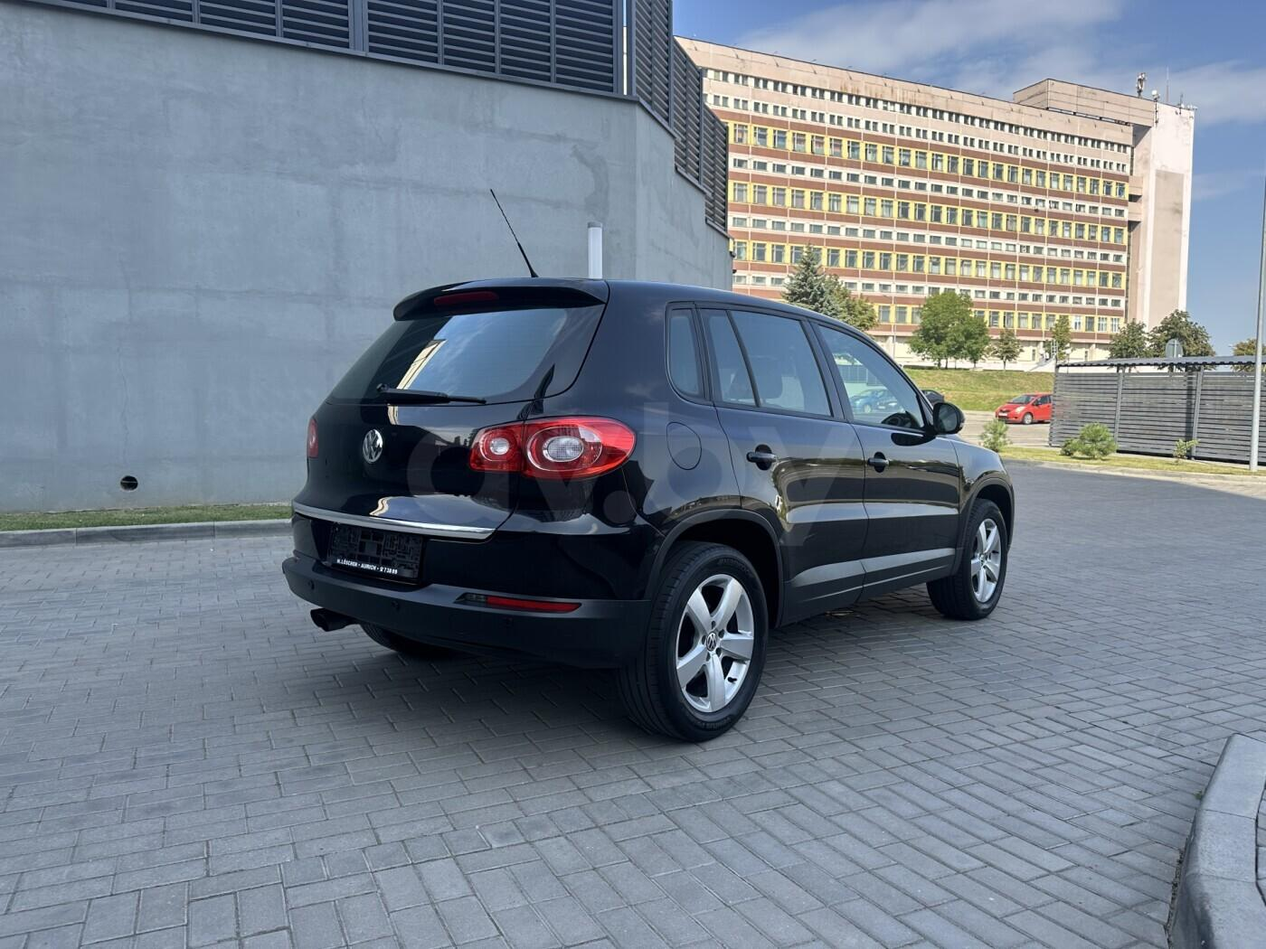Tiguan_2007-2011: (278, 274, 1014, 739)
